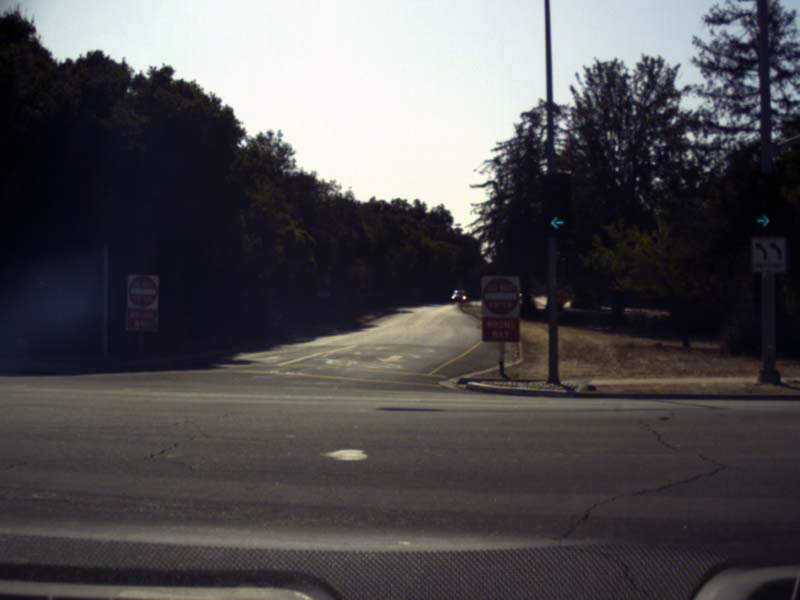Green: (540, 175, 574, 233), (745, 173, 777, 230)
